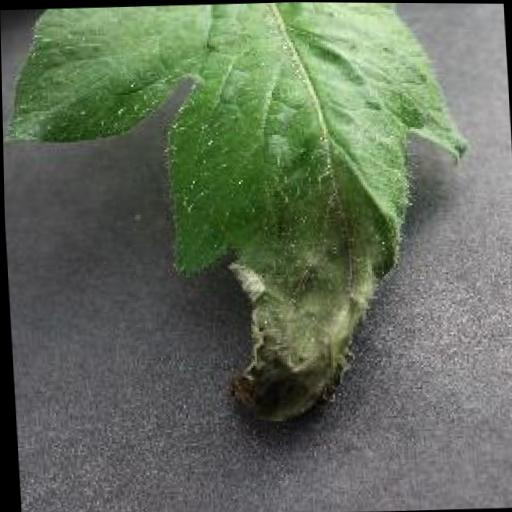Late Blight: (0, 0, 478, 447)
